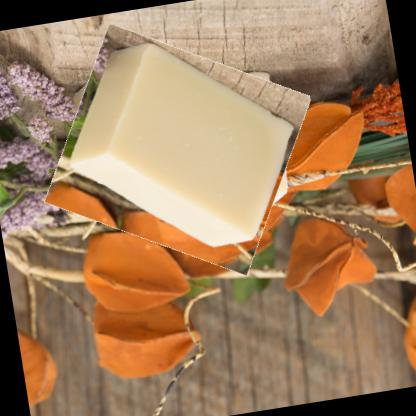soap: (37, 16, 318, 282)
